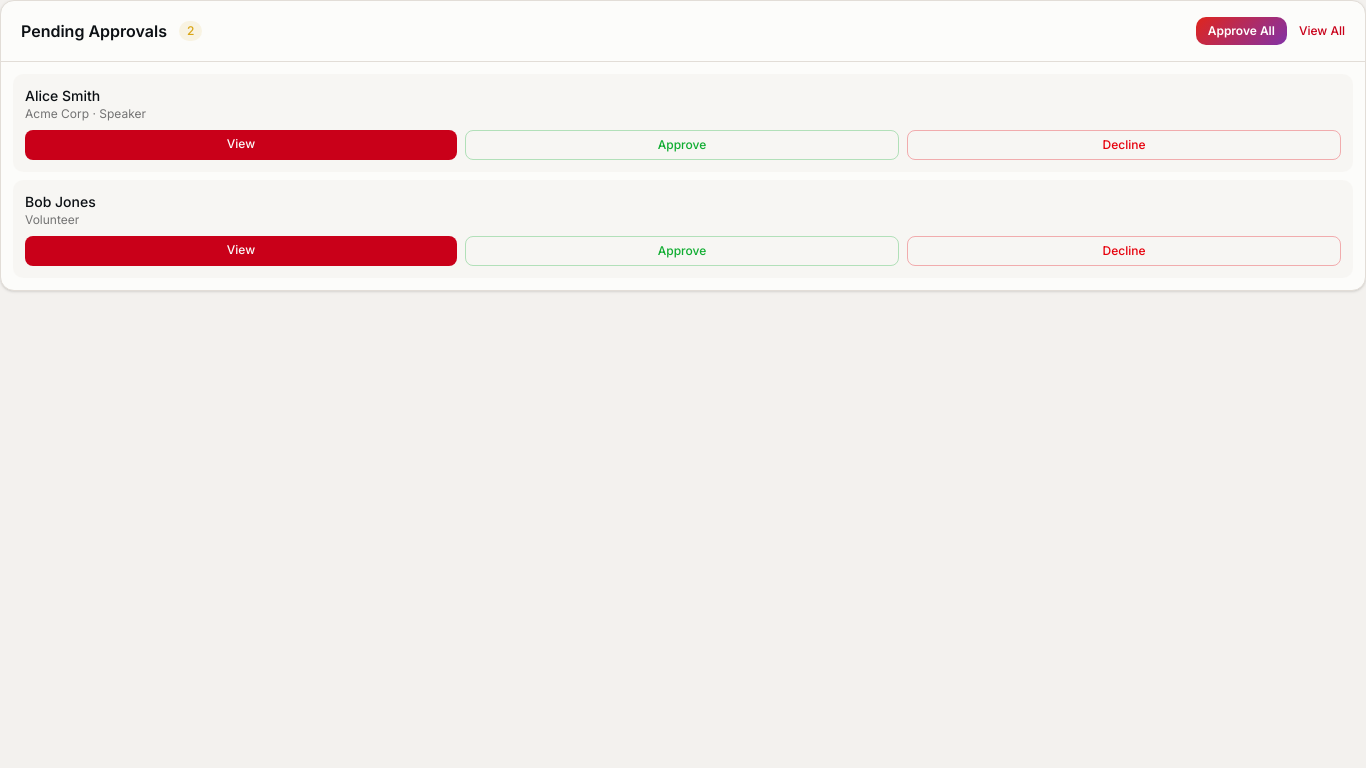
Test: PendingApprovals › opens reject dialog on Decline click
This screenshot has width=1366, height=768.
Click the 1st button "Decline" at (1124, 145), box [907, 130, 1341, 160]
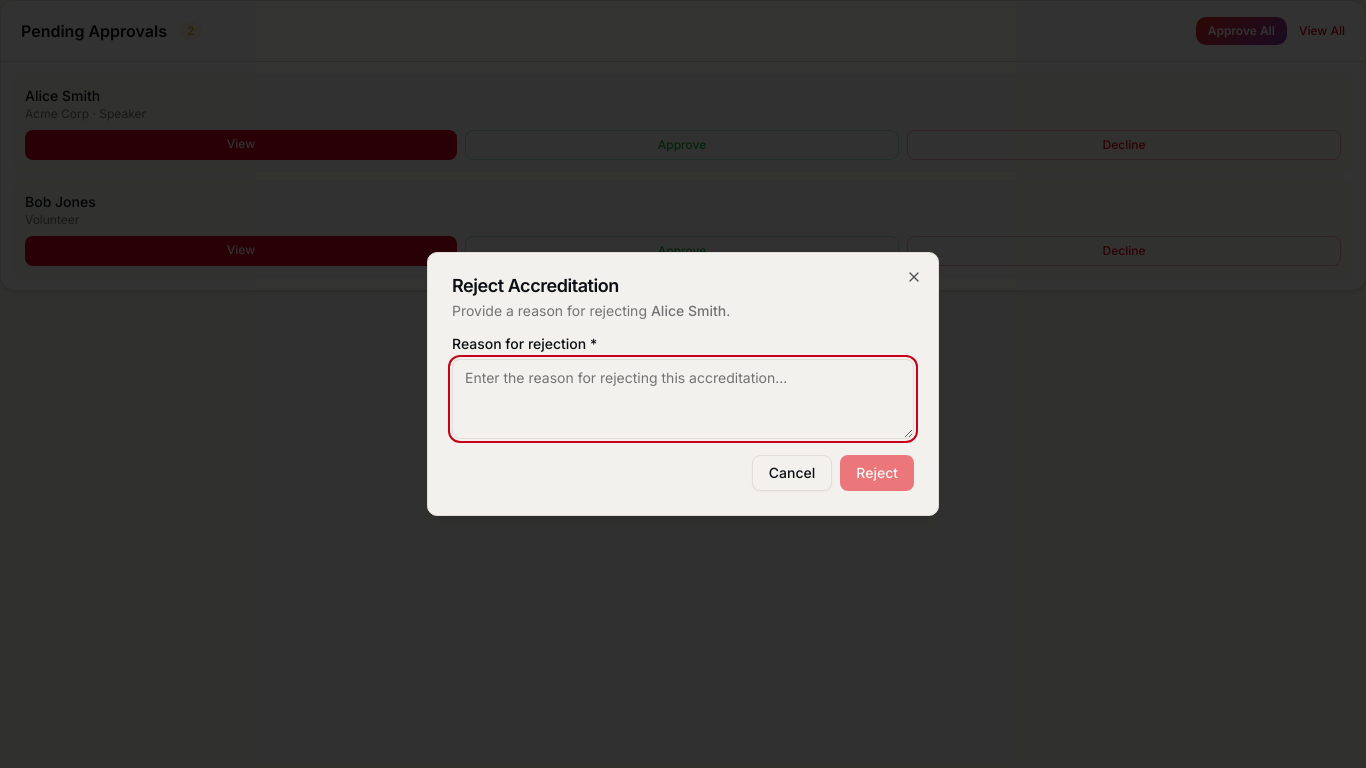
Check: the heading "Reject Accreditation" is shown, box [452, 275, 619, 296]
Check: the text "Reason for rejection *" is shown, box [452, 335, 597, 352]
